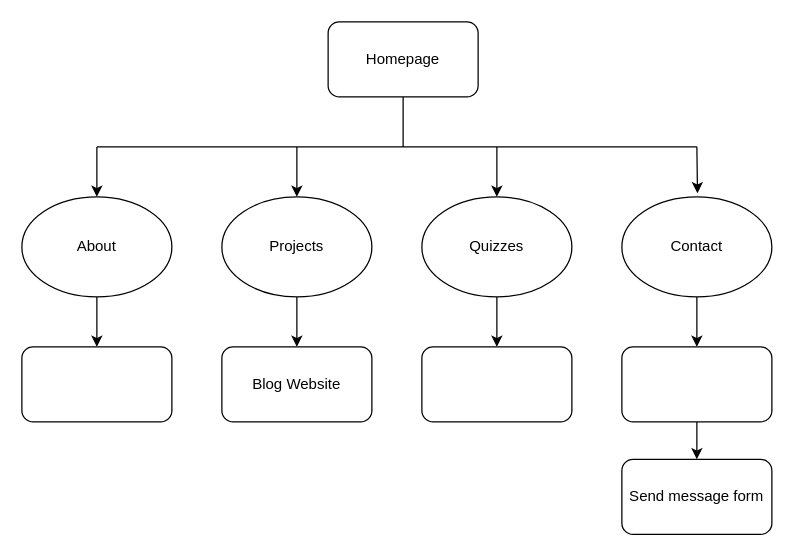
This 794x556 diagram has some shape labels left out. Here are the shapes that lost their labels. From the top down, the centre of each, then its label:
At pixel 96 384: "Skills".
At pixel 496 384: "Compilation of quiz".
At pixel 696 384: "Contact Information".
